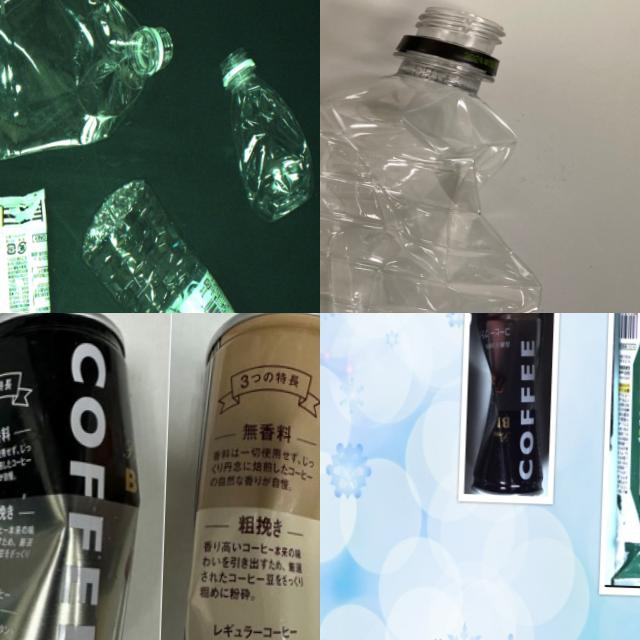Aluminium Foil: (0, 188, 67, 313)
Can: (0, 313, 150, 640), (176, 313, 320, 640), (461, 313, 556, 494)
Transparent Plastic Bottle: (320, 0, 541, 313), (0, 0, 177, 174), (73, 178, 280, 313), (206, 40, 320, 222)
